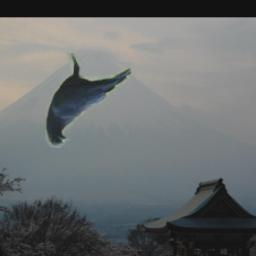Crow: (45, 54, 131, 149)
